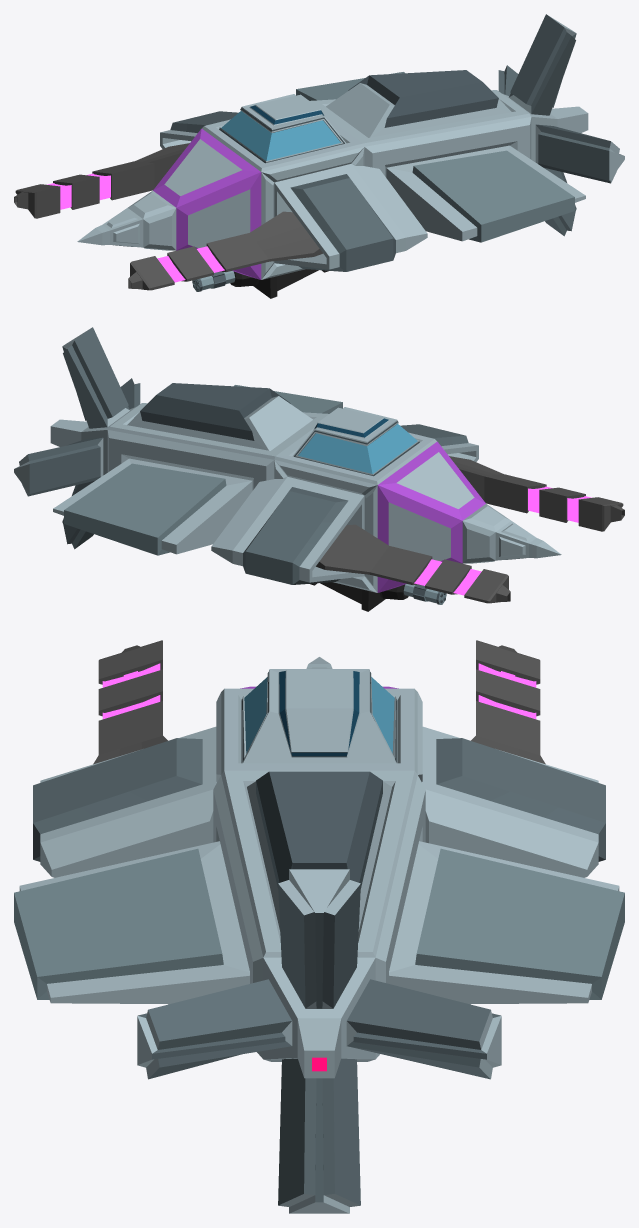
Rendered from other_ship.glb.
The picture shows the model from 3 angles, top to bottom: view 1: azimuth 30°, elevation 25°; view 2: azimuth 150°, elevation 25°; view 3: azimuth 270°, elevation 25°; orthographic projection. The views are drawn at different scales.
Parts seen in each view (by area): view 1: Cube, Cube.003, Cube.002, Cube.001; view 2: Cube, Cube.002, Cube.003, Cube.001; view 3: Cube, Cube.002, Cube.003.
Boxes of the visible parts, x1=… form: Cube: x1=77, y1=14, x2=624, y2=298; Cube.003: x1=128, y1=211, x2=322, y2=290; Cube.002: x1=14, y1=143, x2=189, y2=218; Cube.001: x1=192, y1=271, x2=235, y2=291; Cube: x1=14, y1=327, x2=561, y2=611; Cube.002: x1=316, y1=524, x2=510, y2=603; Cube.003: x1=449, y1=456, x2=624, y2=531; Cube.001: x1=403, y1=584, x2=446, y2=604; Cube: x1=14, y1=657, x2=624, y2=1213; Cube.002: x1=471, y1=640, x2=545, y2=764; Cube.003: x1=93, y1=640, x2=167, y2=764.
Size of the model in its own units: 9.89 by 3.87 by 6.21.
Materials: 3 (1 with a texture image).
